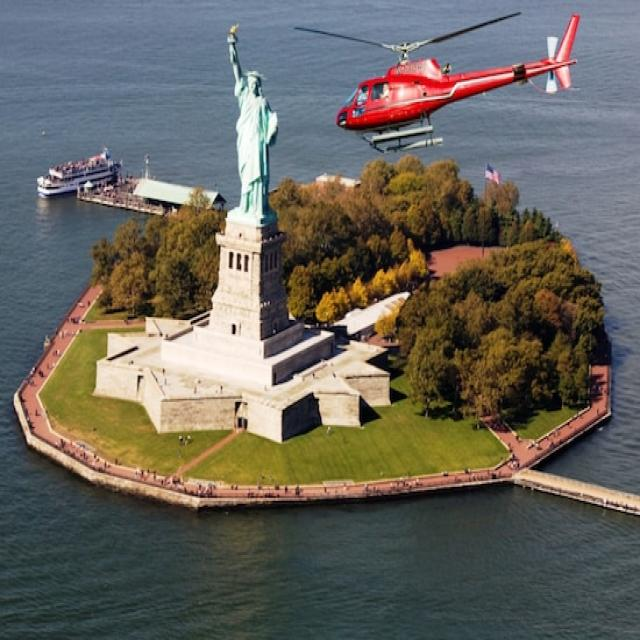helicopter: (292, 13, 584, 154)
